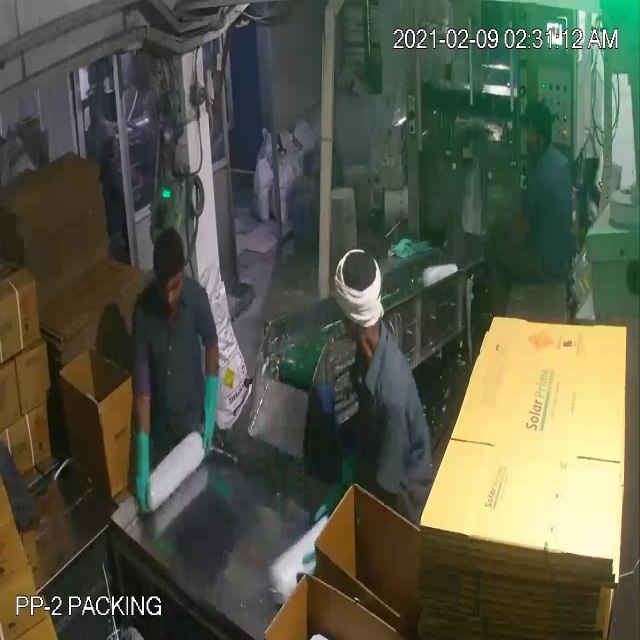Guantes: (120, 399, 168, 531), (183, 353, 223, 463)
Sin_guantes: (24, 450, 79, 564)
